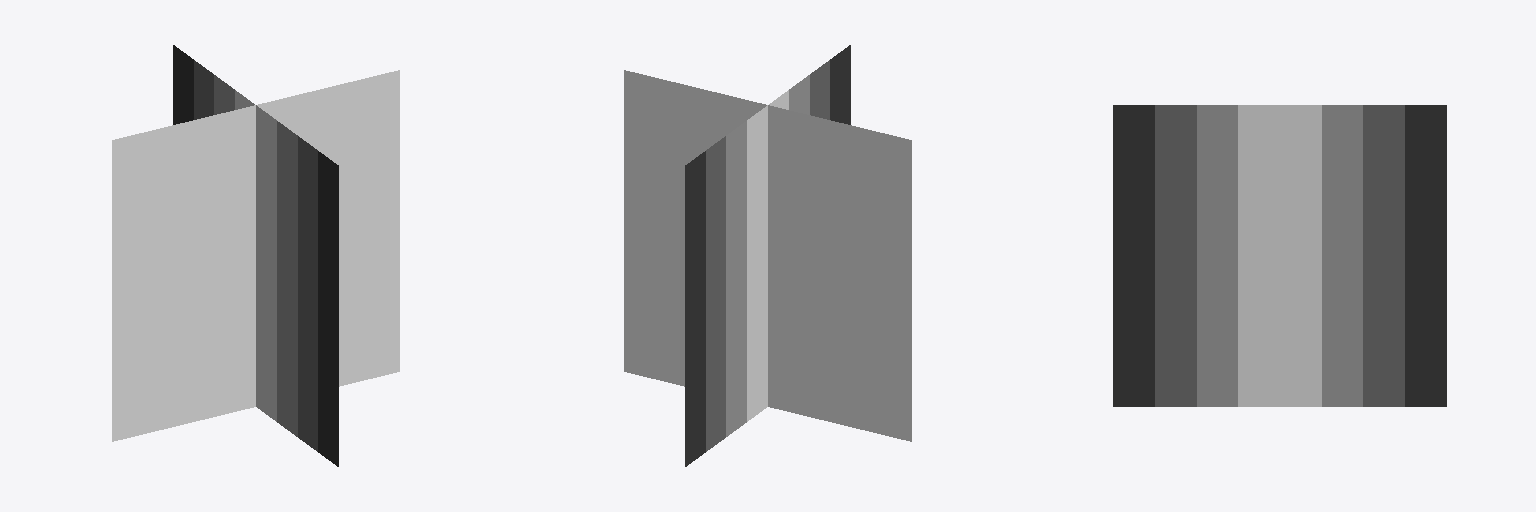
The picture shows the model from 3 angles: view 1: azimuth 30°, elevation 25°; view 2: azimuth 150°, elevation 25°; view 3: azimuth 270°, elevation 25°; orthographic projection.
Parts seen in each view (by area): view 1: Beam; view 2: Beam; view 3: Beam.
Part boxes in pixels (left/top/right/bottom): Beam: left=112, top=45, right=399, bottom=466; Beam: left=624, top=45, right=911, bottom=466; Beam: left=1113, top=105, right=1446, bottom=406.
Size of the model in its own units: 8 by 8 by 8.
1 materials, 1 textured.